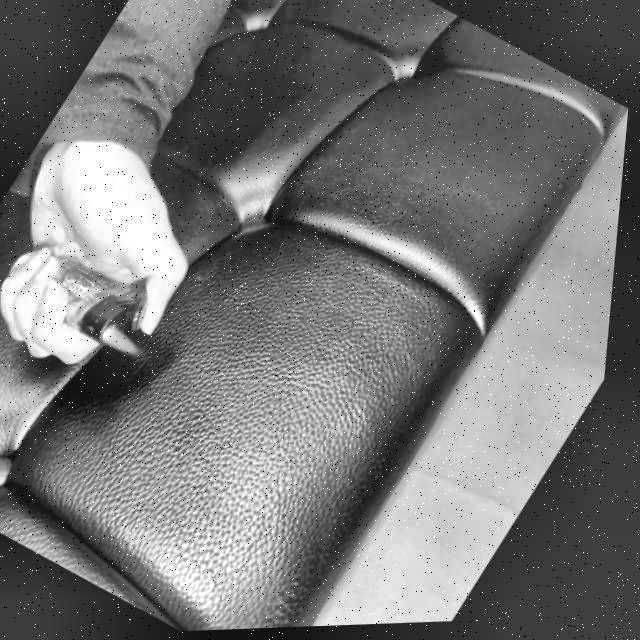Fire: (103, 323, 152, 361)
